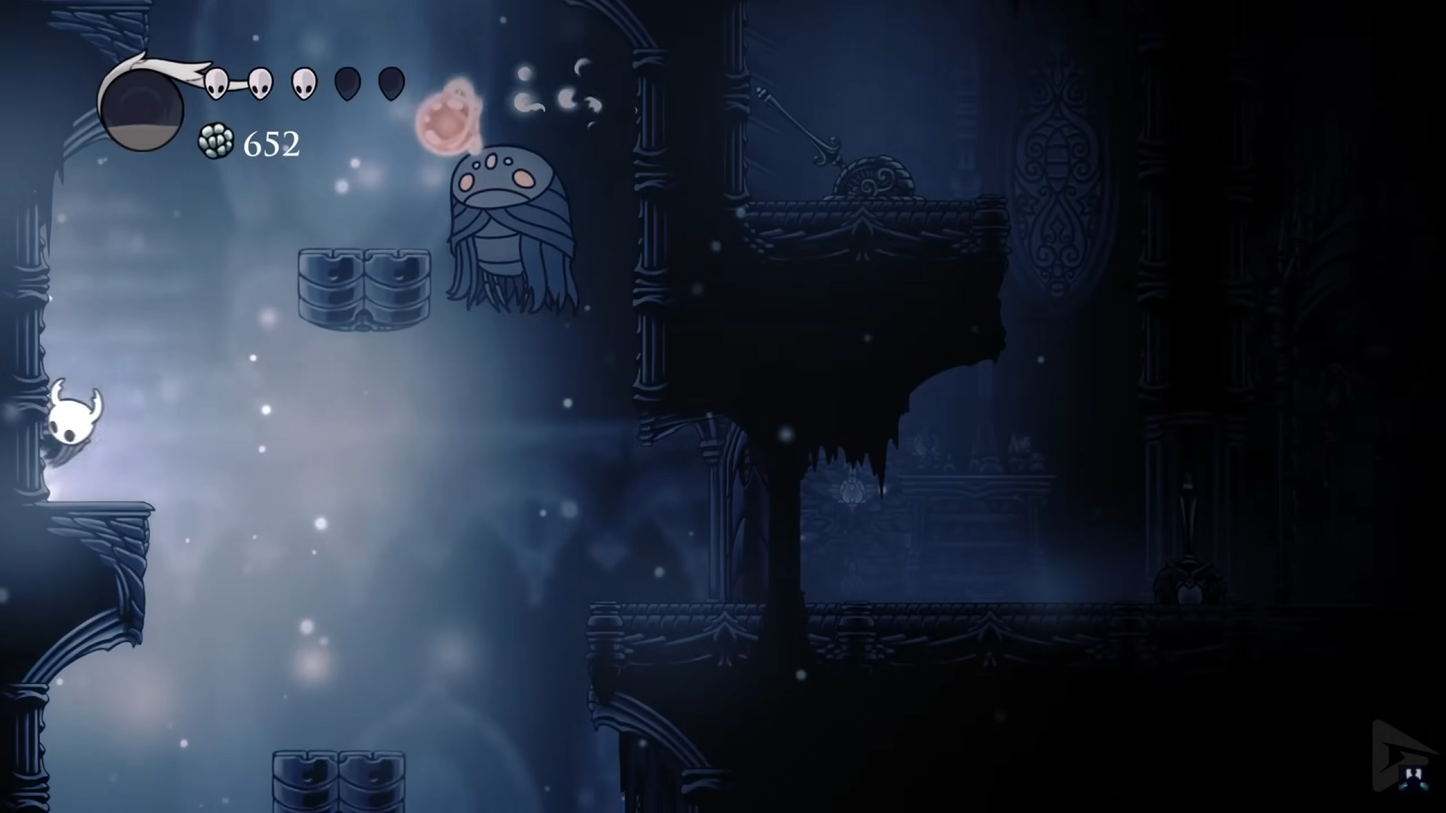HK: (37, 376, 105, 483)
